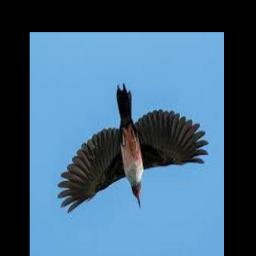Woodpecker: (58, 84, 208, 213)
